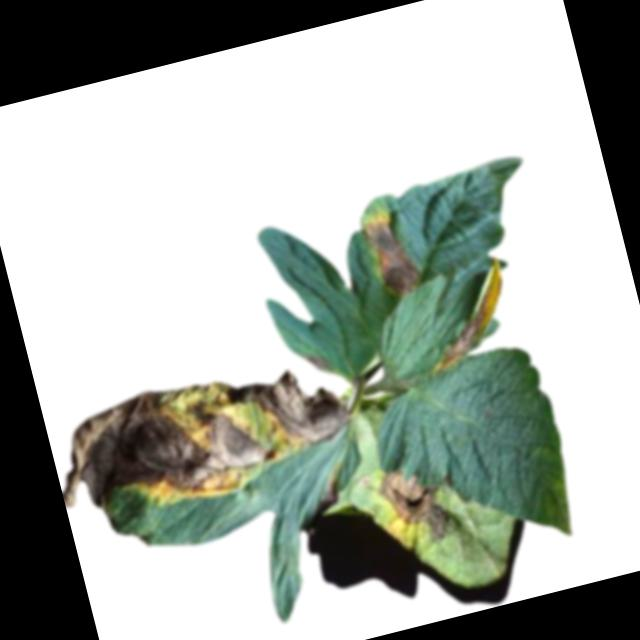Early_blight: (44, 343, 362, 533), (413, 260, 520, 370), (373, 455, 462, 549), (357, 209, 425, 303), (319, 471, 343, 503)
